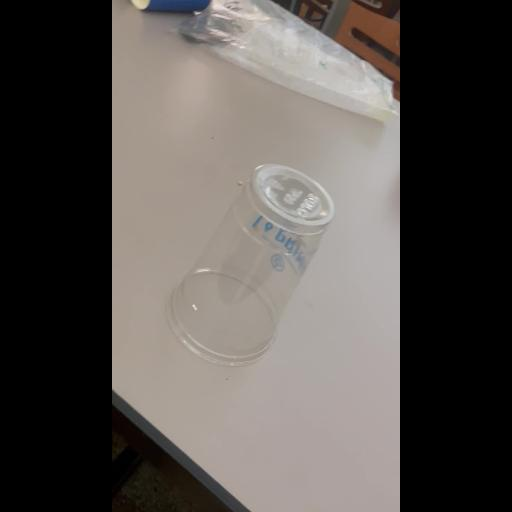lp_plastic_cup: (167, 157, 337, 373)
